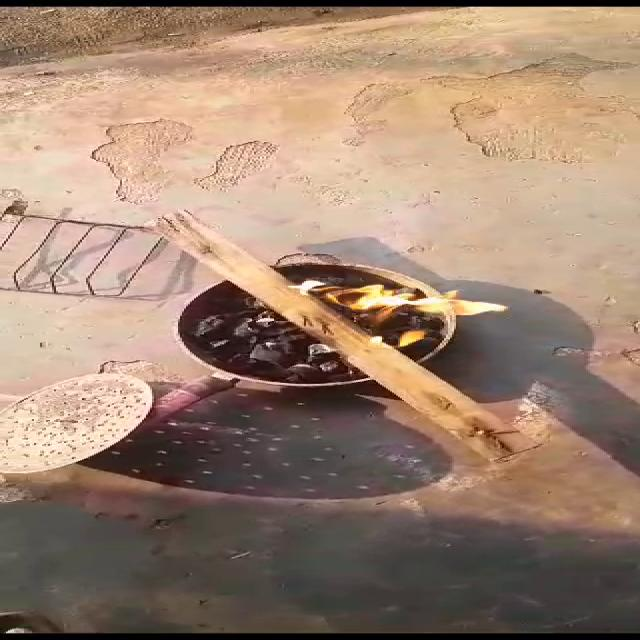Fire: (286, 266, 544, 354)
